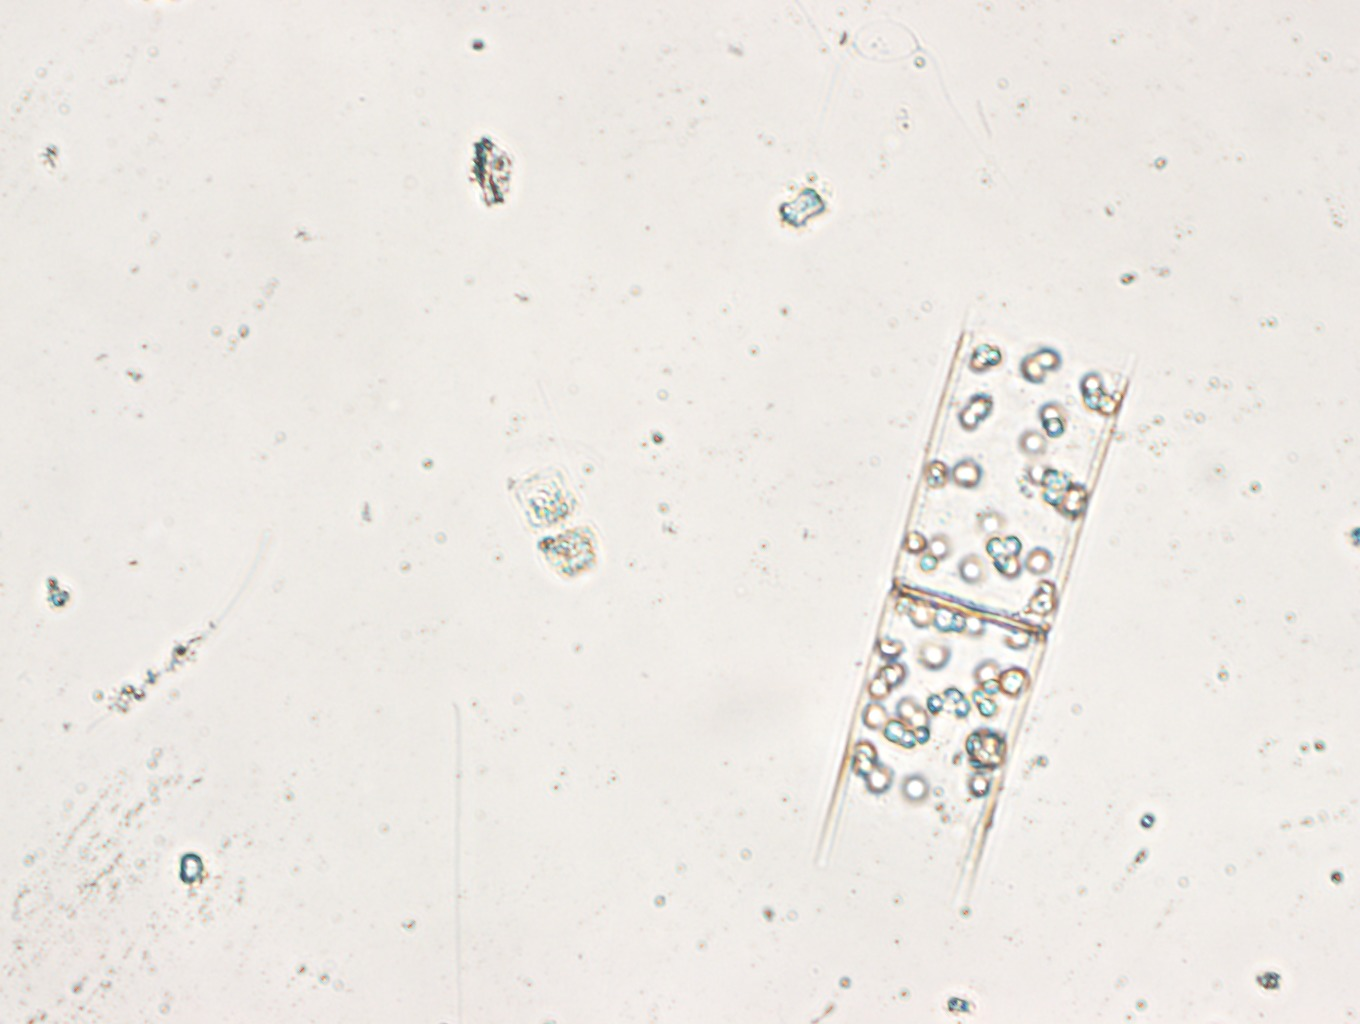guinardia flaccida: (811, 299, 1139, 919)
